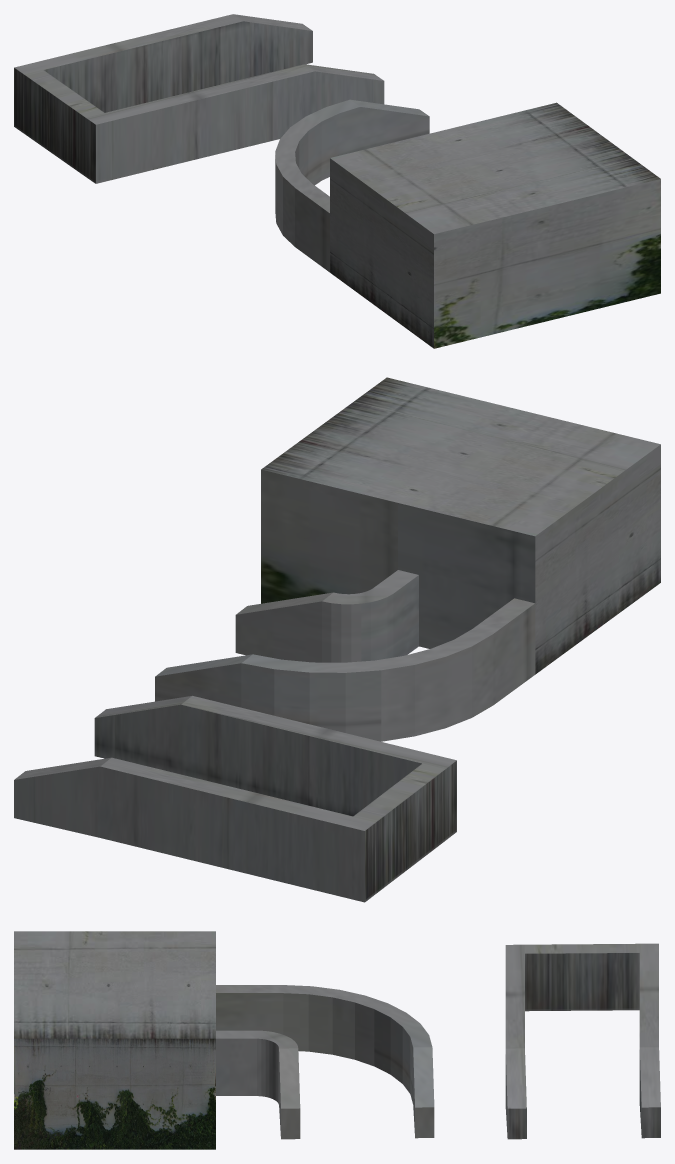
Rendered from Garage.glb.
3 views of the same model, one above another, from view 1: azimuth 30°, elevation 25°; view 2: azimuth 150°, elevation 25°; view 3: azimuth 270°, elevation 25° (orthographic). The views are drawn at different scales.
Visible parts, largest first — view 1: Garage2, Garage1; view 2: Garage2, Garage1; view 3: Garage2, Garage1.
Part boxes in pixels (x1,y1,x2,y2): Garage2: [275, 99, 660, 348]; Garage1: [14, 14, 384, 183]; Garage2: [155, 377, 660, 741]; Garage1: [14, 695, 456, 902]; Garage2: [14, 931, 434, 1149]; Garage1: [505, 943, 660, 1139].
Size of the model in its own units: 6.97 by 2.43 by 12.81.
Materials: 2 (2 with a texture image).
